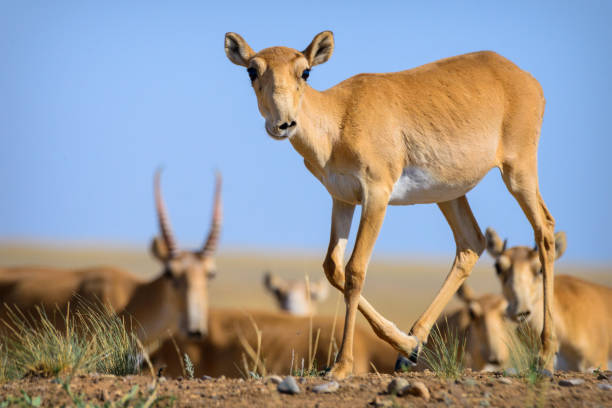saiga: (223, 30, 558, 388)
